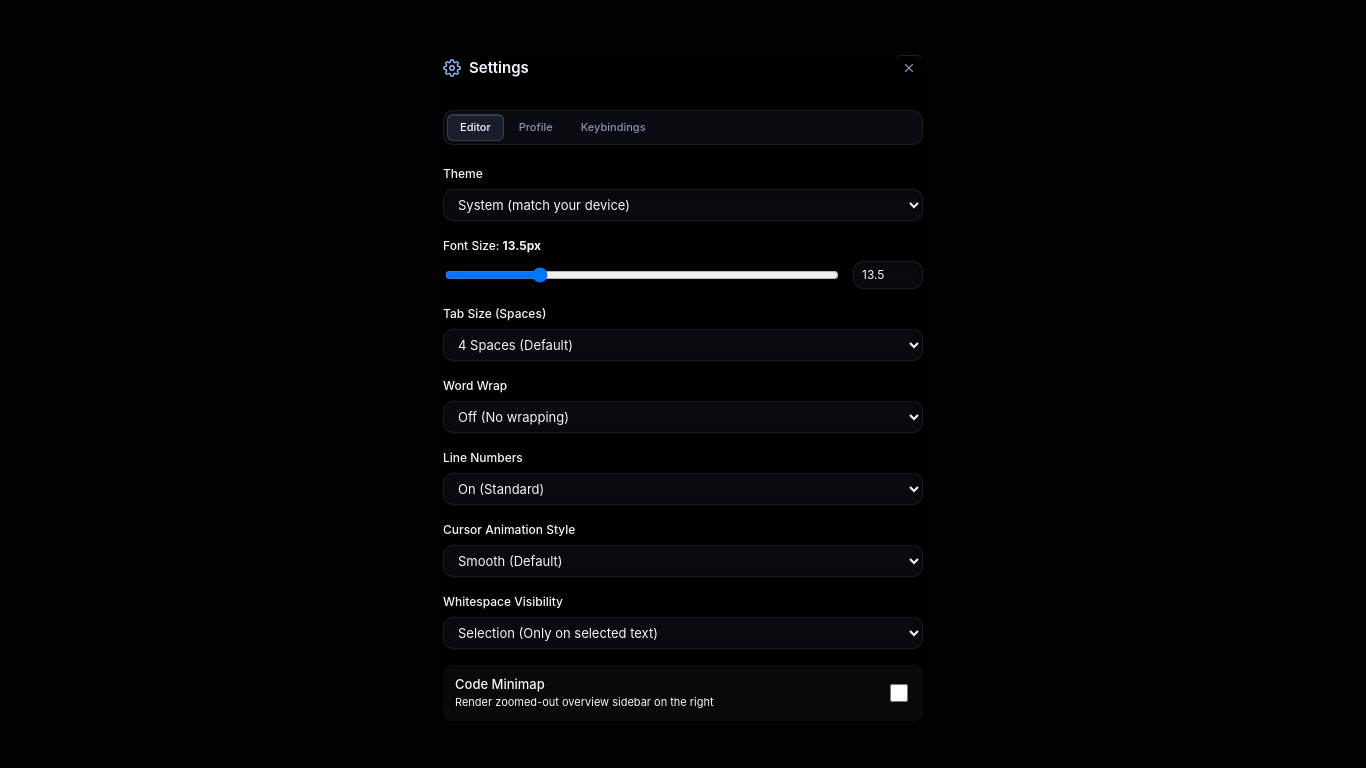
Test: SettingsModal — Keybindings tab (M70) › lists every configurable command with its current shortcut
Click the tab "Keybindings" at x=613, y=128, box [568,114,659,141]
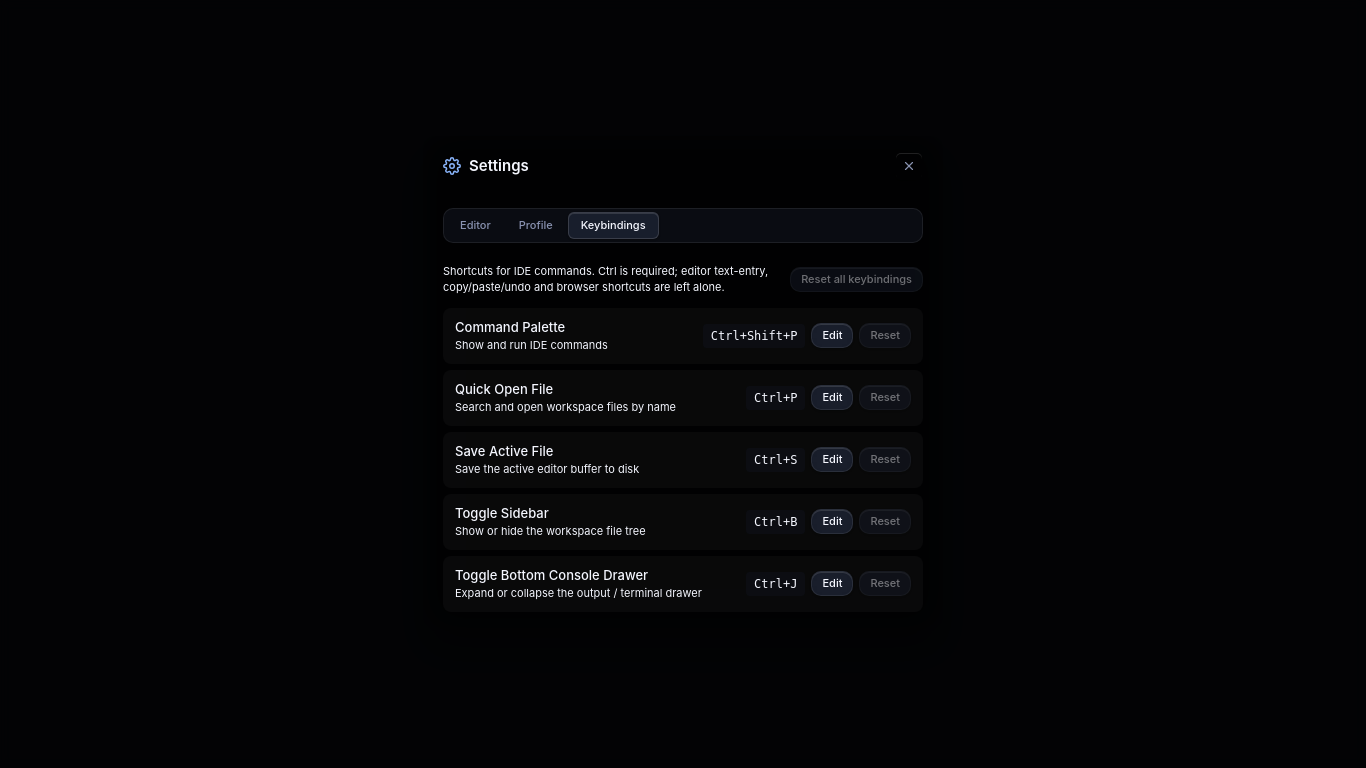
Check: the list item that starts with "Command Palette" is shown, box [443,308,923,364]
Check: the list item that starts with "Command Palette" shows "Shift+P", box [711,329,798,343]
Check: the list item that starts with "Quick Open File" is shown, box [443,370,923,426]
